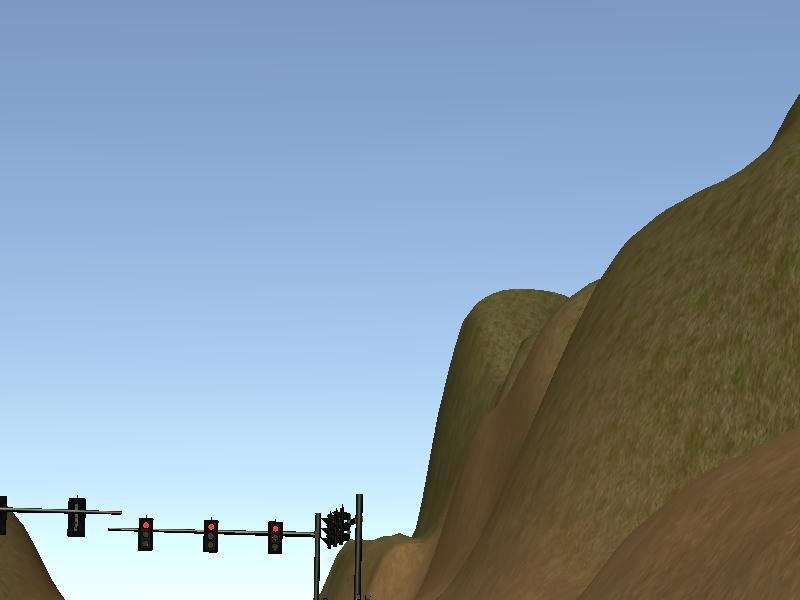red: (202, 519, 219, 553), (137, 518, 154, 551), (268, 521, 283, 553)
